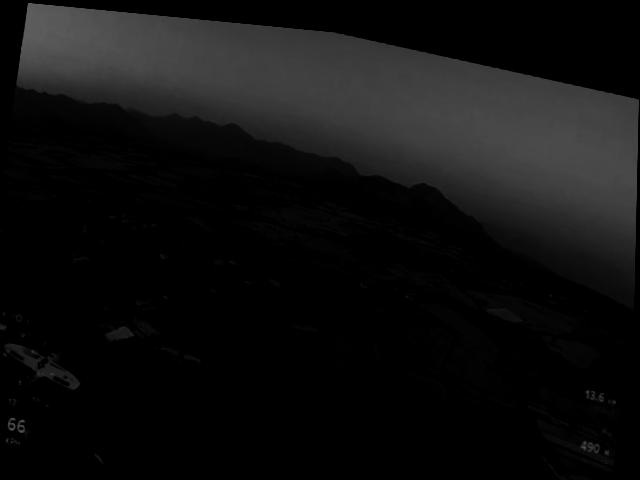hedef: (0, 328, 85, 402)
